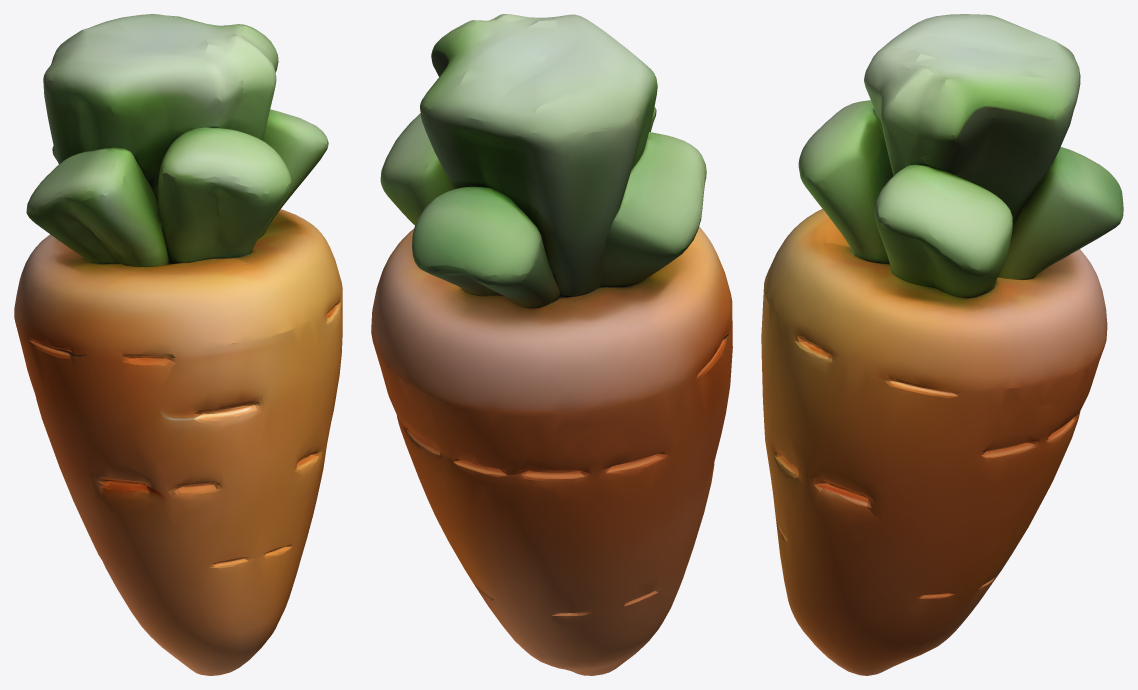
File: Carrot.glb
The picture shows the model from 3 angles, left to right: view 1: azimuth 30°, elevation 25°; view 2: azimuth 150°, elevation 25°; view 3: azimuth 270°, elevation 25°; orthographic projection. The views are drawn at different scales.
Visible parts, largest first — view 1: model; view 2: model; view 3: model.
Part boxes in pixels (x1=…): model: x1=14, y1=14, x2=342, y2=675; model: x1=371, y1=14, x2=732, y2=675; model: x1=761, y1=14, x2=1123, y2=675.
Bounding box in the file's own units: 0.9091 × 1.85 × 0.9682.
Materials: 1 (1 with a texture image).
